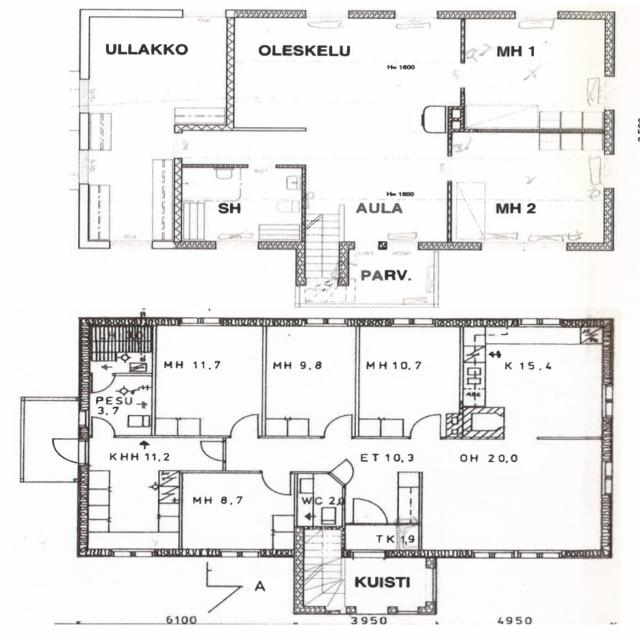door: (353, 550, 385, 584), (49, 440, 90, 465), (353, 496, 387, 526), (410, 412, 440, 438), (262, 472, 290, 497), (231, 414, 258, 439), (324, 414, 351, 438), (329, 463, 357, 485), (198, 442, 226, 461), (91, 417, 115, 438), (92, 373, 115, 394)
